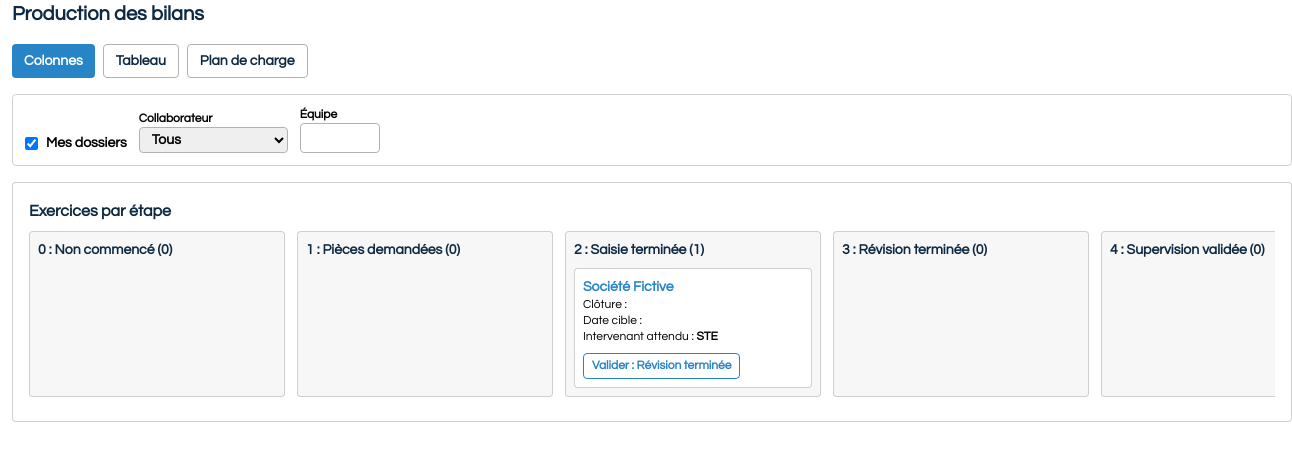
Test: affiche l erreur renvoyée par la fonction SQL
The width and height of the screenshot is (1292, 459).
Click the button "Valider : Révision terminée" at (662, 366), box [583, 353, 740, 379]
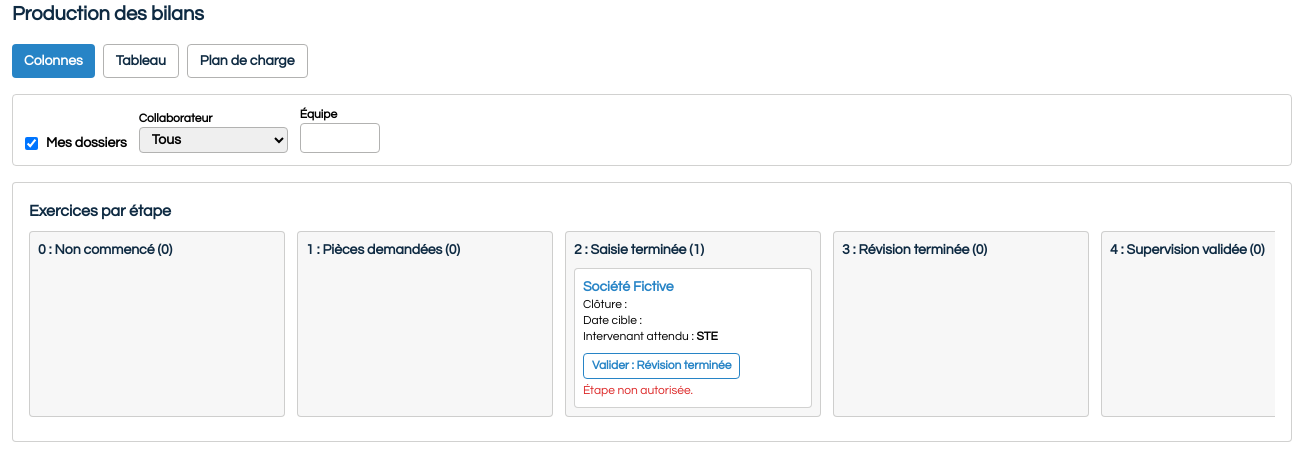
Expected: the message reads "Étape non autorisée.", [583, 384, 693, 397]
